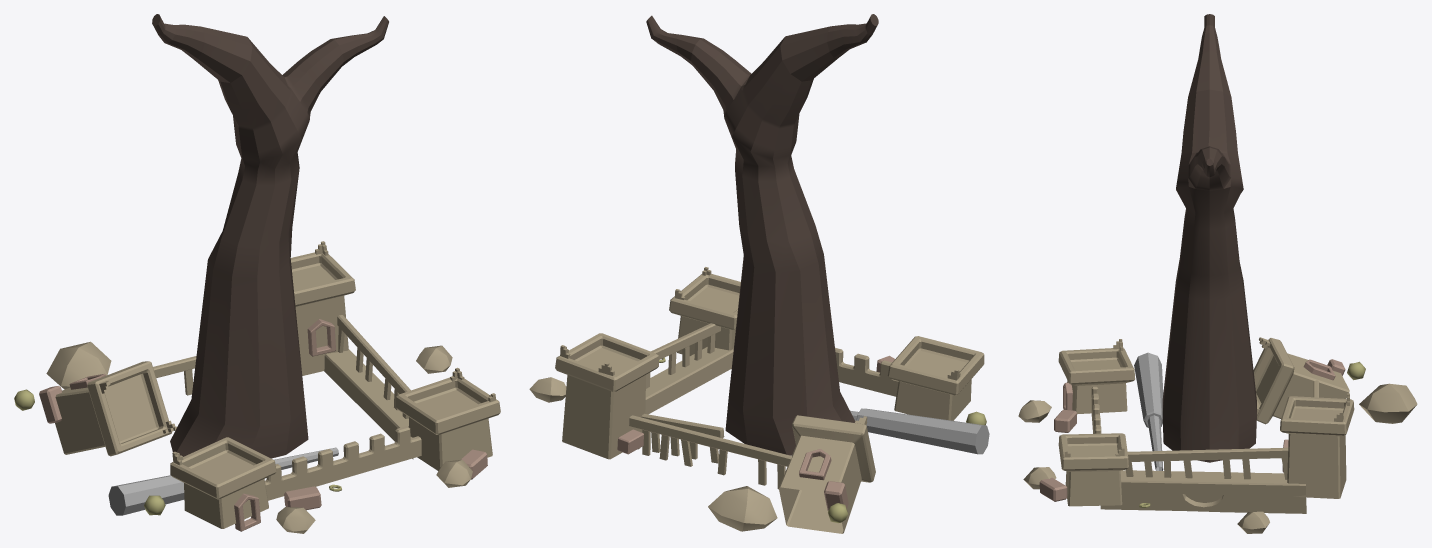
File: haikyou_siruku.fbx
3 renders of one model, left to right at view 1: azimuth 30°, elevation 25°; view 2: azimuth 150°, elevation 25°; view 3: azimuth 270°, elevation 25°, orthographic. The views are drawn at different scales.
Parts seen in each view (by area): view 1: all_siruku; view 2: all_siruku; view 3: all_siruku.
Part boxes in pixels (x1,y1,x2,y2): all_siruku: [14, 14, 500, 533]; all_siruku: [529, 14, 989, 533]; all_siruku: [1018, 14, 1417, 533].
Bounding box in the file's own units: 1206 × 1391 × 1212.
